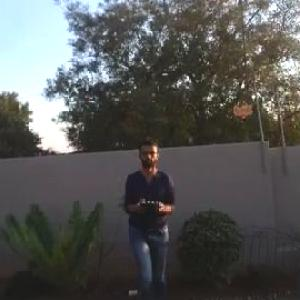follow: (116, 135, 182, 299)
